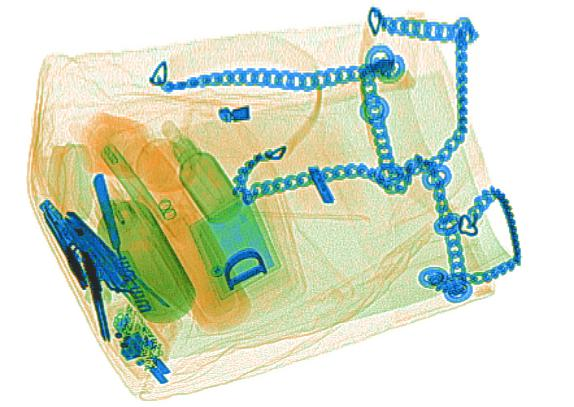plasticBottleWithaNozzle: (136, 172, 255, 336)
